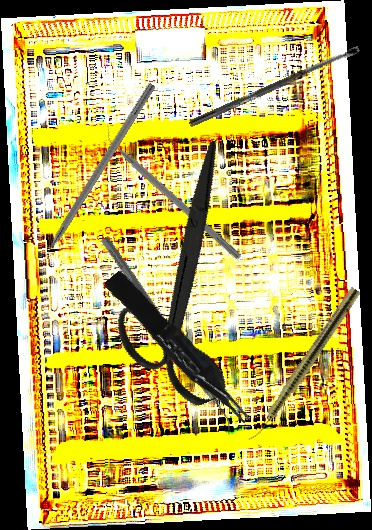Chopper: (96, 120, 250, 262)
Handpiece: (246, 285, 362, 446)
Hook Surgical: (31, 81, 156, 273)
Iris Scissors: (62, 138, 312, 425)
Spatula Surgical: (91, 235, 243, 439)
Surgical Spoon: (188, 45, 361, 129)
Tissue Forceps: (103, 264, 254, 435)
